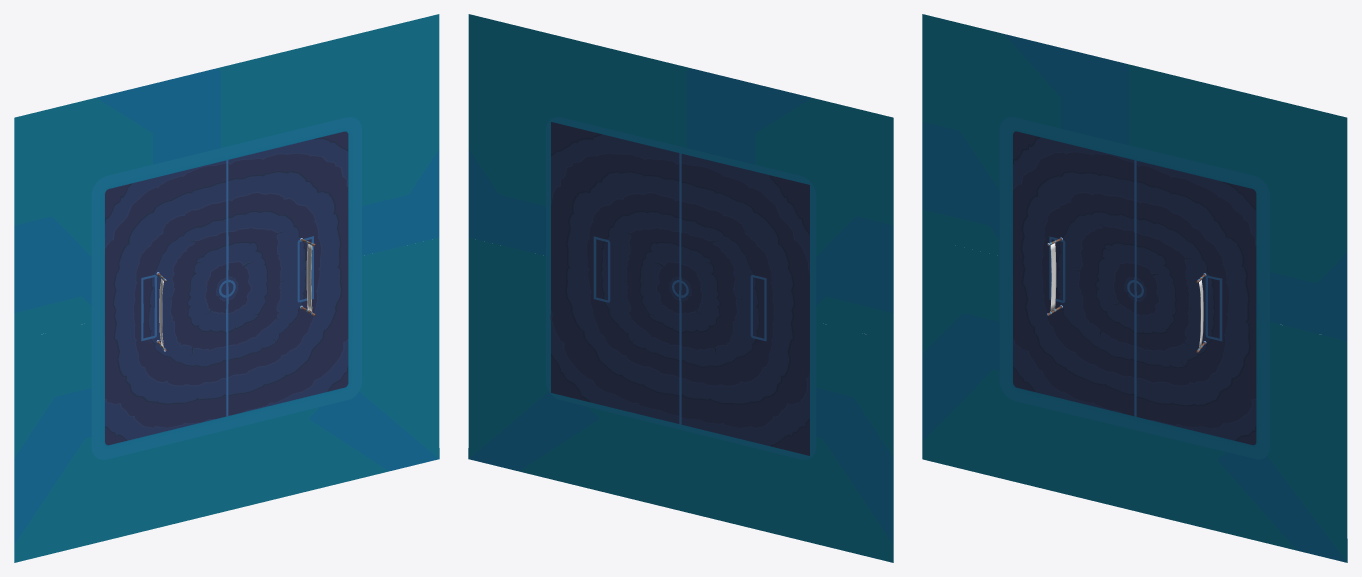
Rendered from bgr_ice_island_bbb.fbx.
3 views of the same model, side by side, from view 1: azimuth 30°, elevation 25°; view 2: azimuth 150°, elevation 25°; view 3: azimuth 330°, elevation 25° (orthographic).
Parts seen in each view (by area): view 1: fog2, fog, ground_bbb; view 2: ground_bbb, fog2, fog; view 3: fog2, fog, ground_bbb.
Boxes of the visible parts, x1,y1,x2,y2 form: fog2: [14, 14, 439, 340]; fog: [14, 237, 439, 562]; ground_bbb: [105, 131, 348, 445]; ground_bbb: [550, 122, 809, 455]; fog2: [468, 14, 893, 340]; fog: [468, 237, 893, 562]; fog2: [922, 14, 1347, 340]; fog: [922, 237, 1347, 562]; ground_bbb: [1013, 131, 1256, 445].
Bounding box in the file's own units: 9813 × 9826 × 518.
